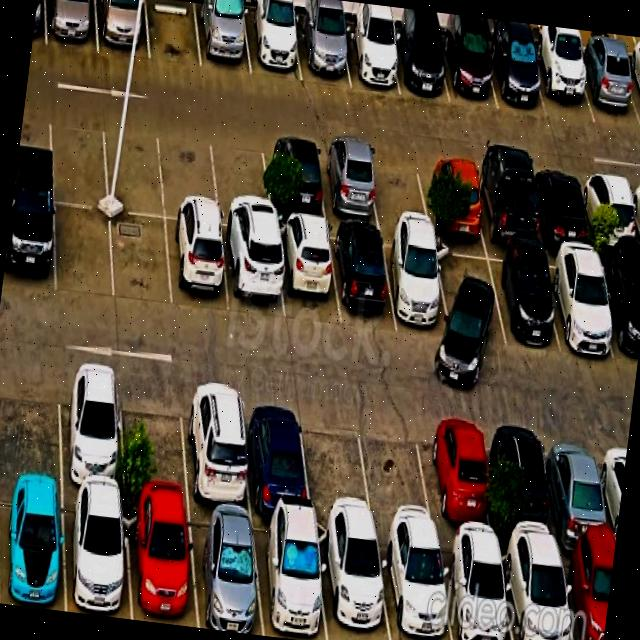empty: (357, 405, 437, 534), (300, 398, 374, 527), (120, 372, 189, 505), (0, 358, 61, 486), (434, 240, 505, 345), (102, 116, 164, 217), (210, 130, 272, 231), (111, 211, 171, 309), (160, 124, 219, 223), (49, 108, 107, 207), (55, 203, 113, 299), (367, 147, 430, 228), (145, 0, 201, 67)
occupied: (187, 507, 263, 635), (422, 410, 494, 542), (252, 515, 327, 640), (124, 499, 197, 627), (182, 381, 251, 512), (544, 423, 614, 552), (241, 389, 311, 517), (63, 490, 131, 619), (316, 522, 390, 640), (492, 417, 559, 547), (59, 363, 124, 496), (0, 484, 64, 611), (377, 532, 452, 640), (543, 247, 616, 356), (438, 536, 512, 640), (381, 232, 451, 339), (486, 245, 559, 347), (499, 542, 573, 640), (329, 225, 396, 329), (275, 220, 339, 325), (165, 219, 229, 313), (220, 228, 284, 320), (473, 159, 540, 245), (420, 154, 485, 237), (262, 137, 326, 220), (574, 48, 640, 128), (2, 193, 54, 293), (317, 142, 380, 224), (559, 548, 614, 640), (530, 44, 594, 123), (580, 169, 640, 251), (530, 165, 591, 245), (486, 35, 546, 116), (597, 252, 640, 365), (439, 30, 497, 108), (389, 28, 449, 102), (242, 6, 301, 80), (340, 22, 399, 94), (194, 0, 250, 74), (295, 16, 349, 85), (95, 0, 149, 58), (45, 0, 97, 51), (623, 56, 640, 121)
